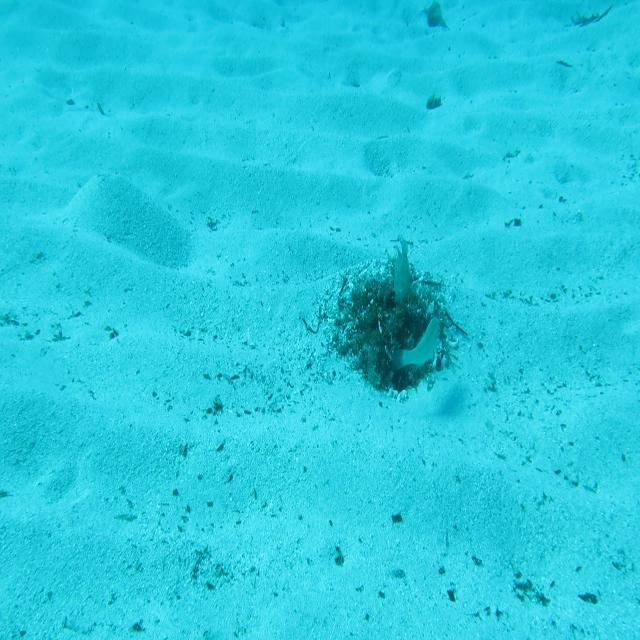NIP_CORE: (389, 233, 412, 307)
female: (390, 316, 442, 372)
nest: (334, 279, 466, 410)
